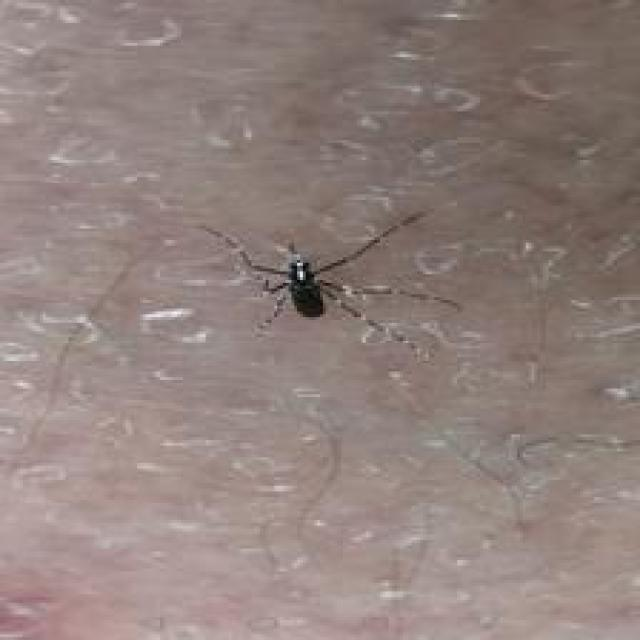Aedes albopictus: (198, 207, 462, 359)
